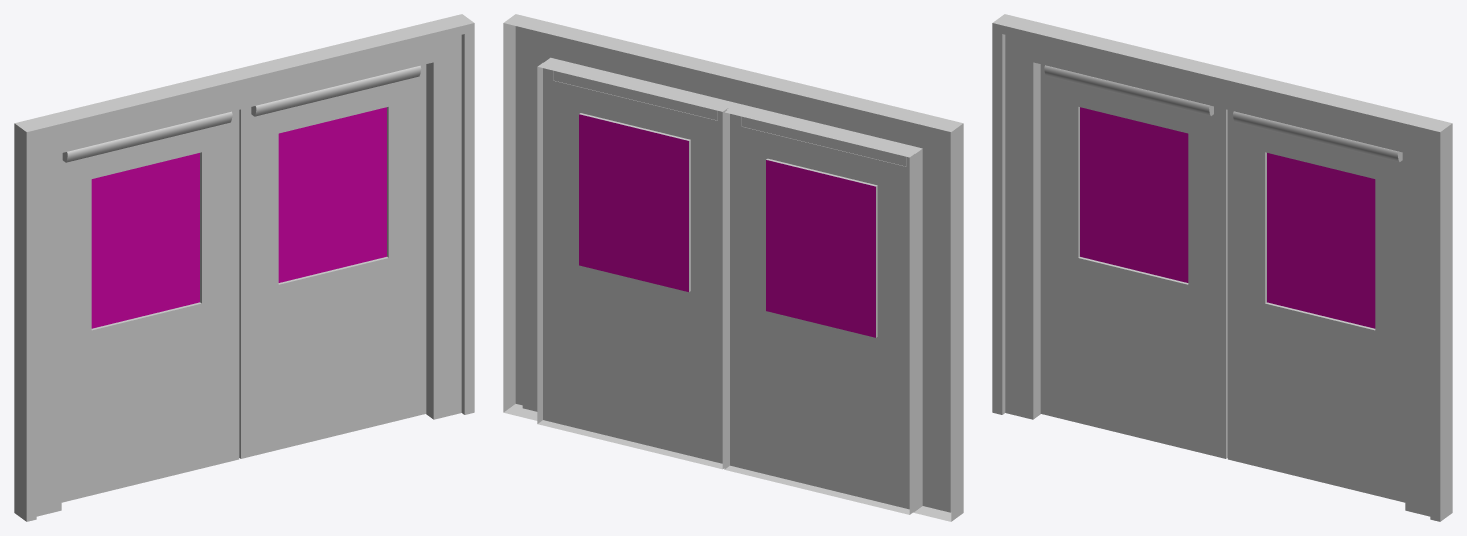
Rendered from Door.FBX.
The picture shows the model from 3 angles, left to right: view 1: azimuth 30°, elevation 25°; view 2: azimuth 150°, elevation 25°; view 3: azimuth 330°, elevation 25°; orthographic projection.
Visible parts, largest first — view 1: Box002, Box001; view 2: Box002, Box001; view 3: Box002, Box001.
Boxes of the visible parts, bbox=[...] form: Box002: bbox=[61, 64, 426, 502]; Box001: bbox=[14, 14, 474, 521]; Box002: bbox=[537, 62, 915, 514]; Box001: bbox=[503, 14, 963, 521]; Box002: bbox=[1040, 64, 1405, 502]; Box001: bbox=[992, 14, 1452, 521].
Size of the model in its own units: 82.18 by 68.35 by 5.11.
